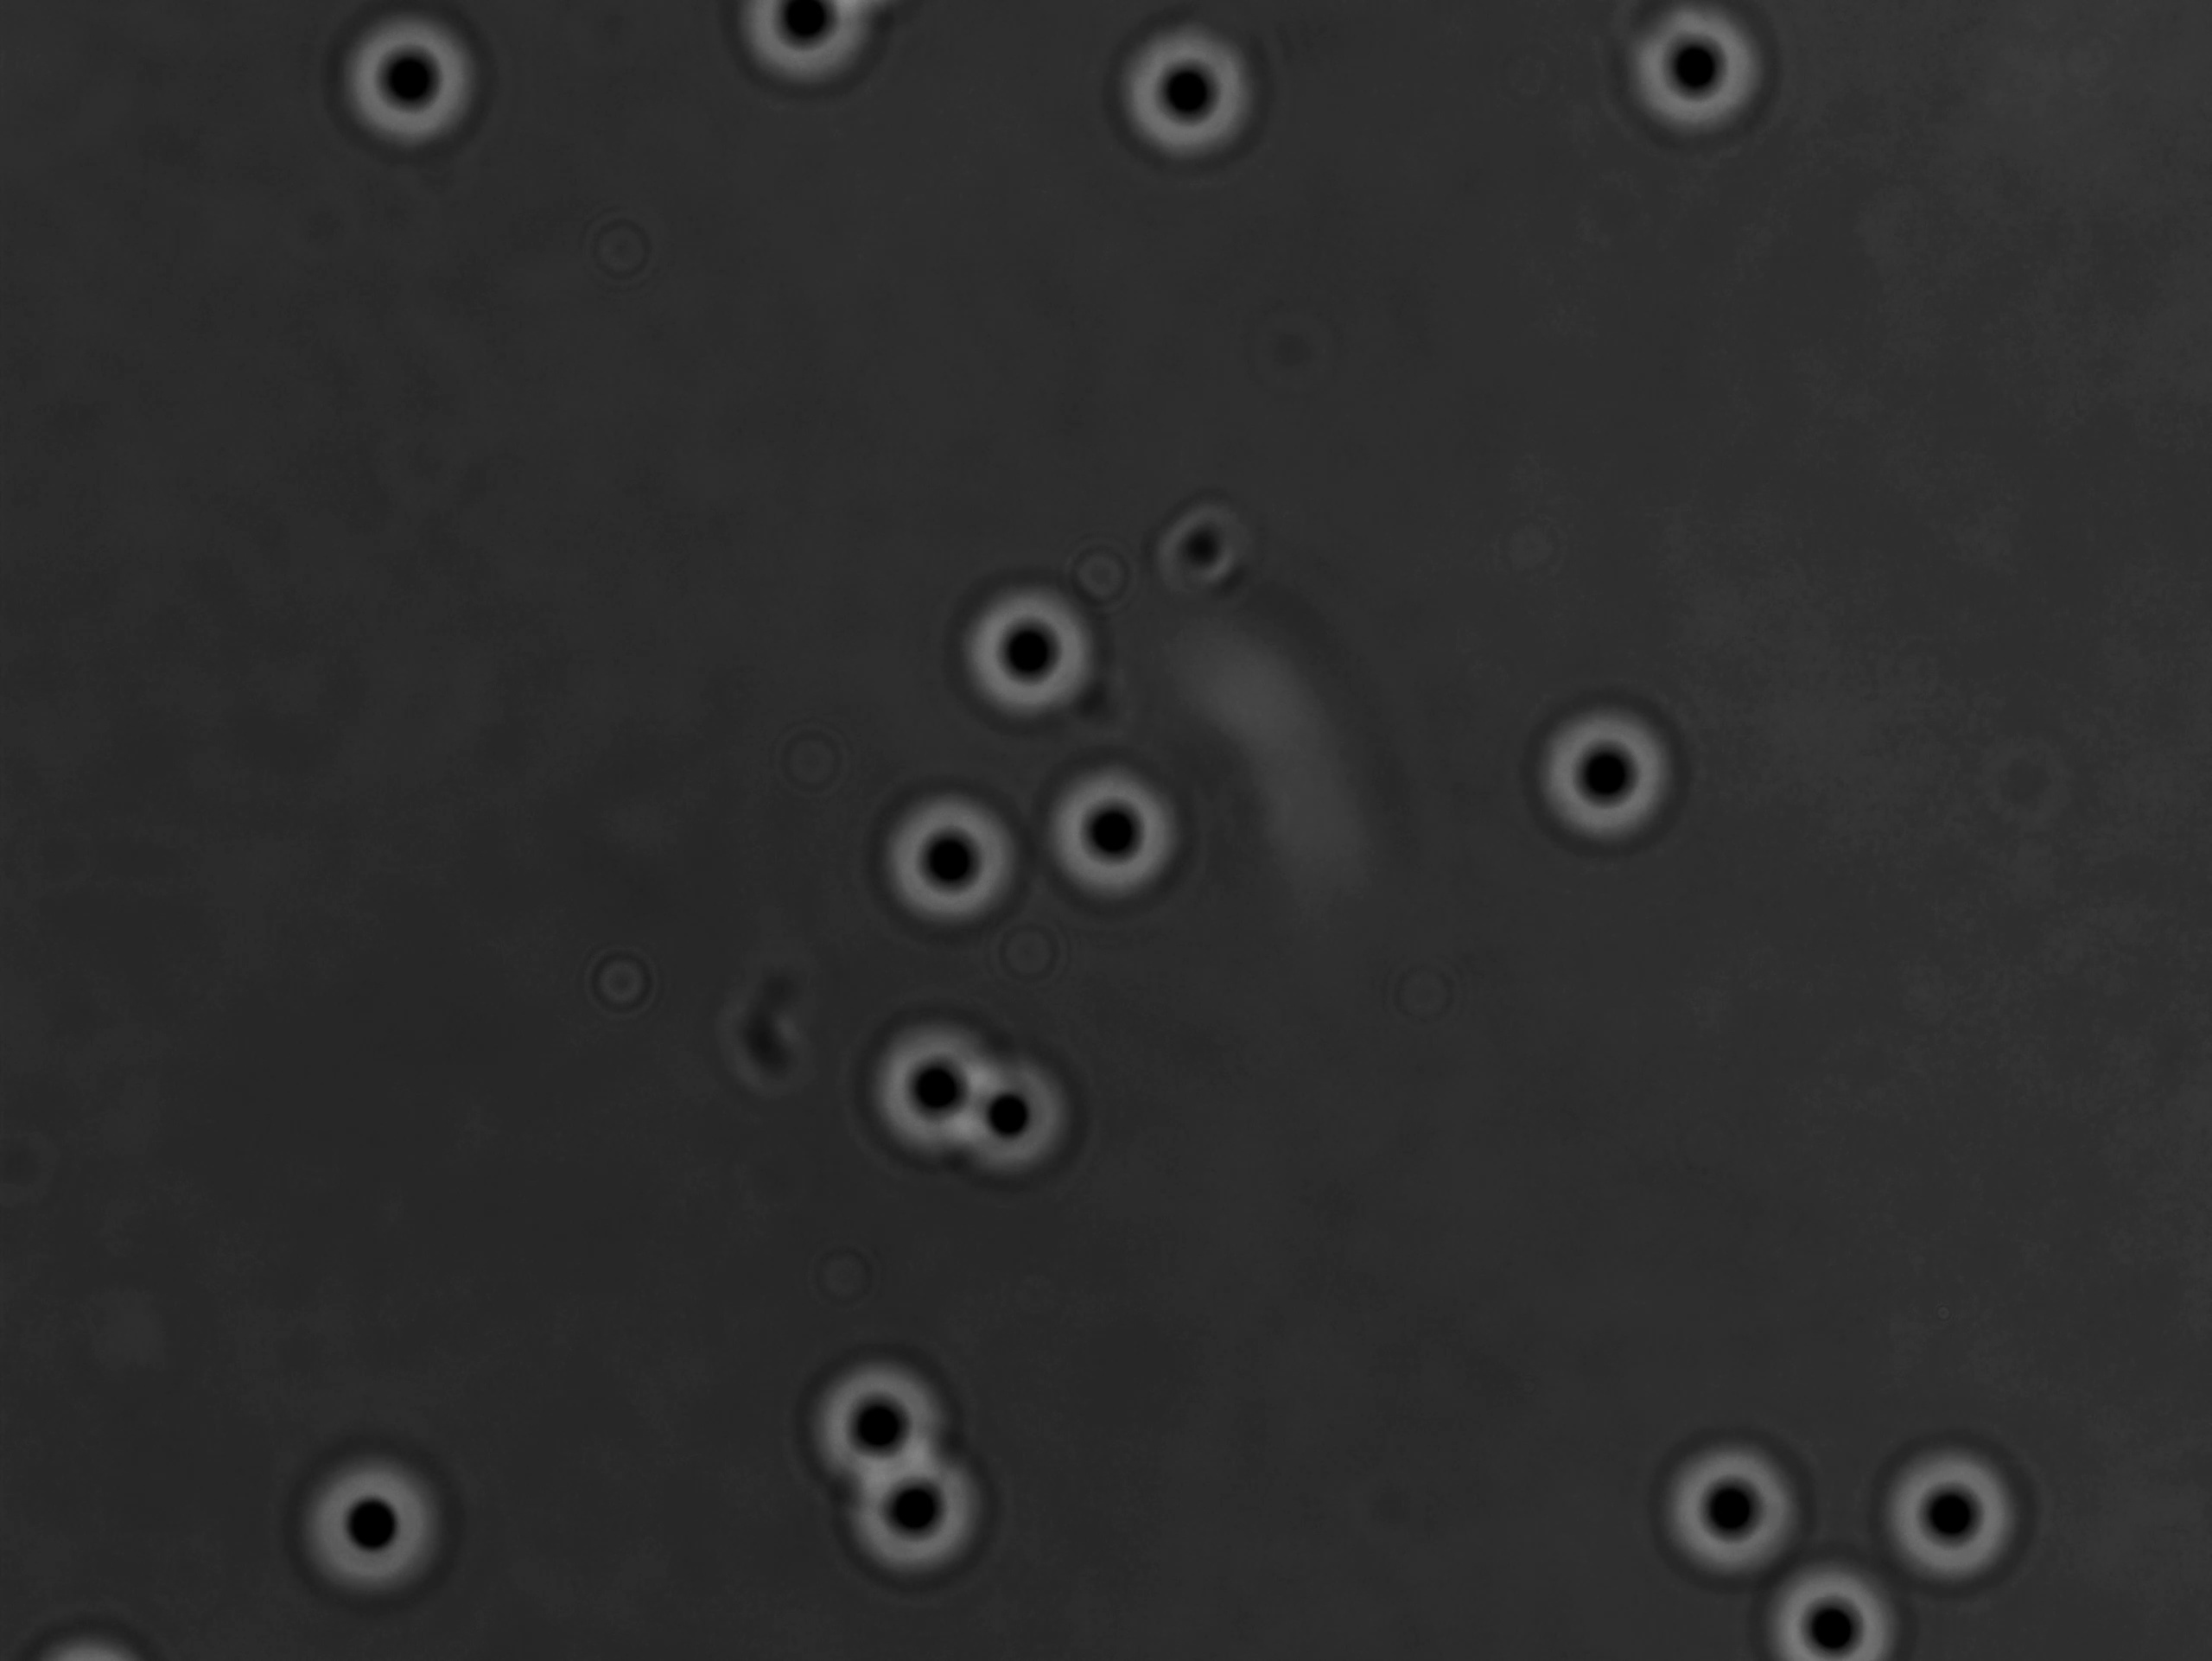depth:-40: (1636, 1418, 1828, 1589), (1868, 1420, 2046, 1600), (1519, 686, 1692, 851), (792, 1343, 956, 1500), (872, 776, 1038, 932), (952, 569, 1106, 736), (1111, 19, 1266, 180), (290, 1464, 447, 1614), (1040, 761, 1193, 909), (855, 1017, 1003, 1169), (855, 1445, 1003, 1586)
